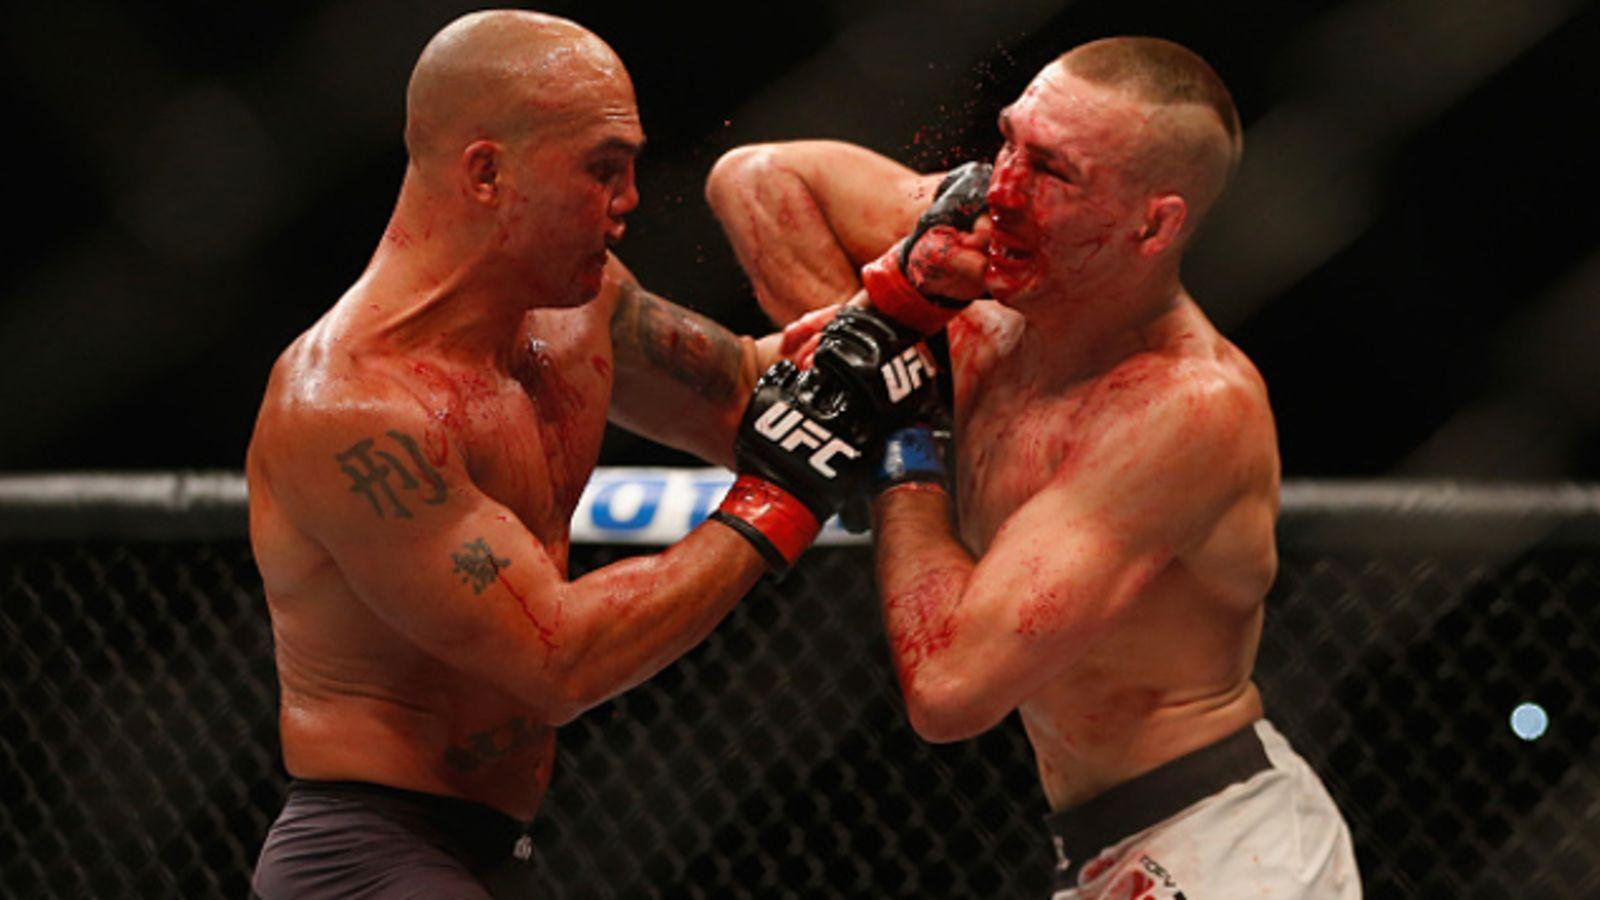Fire: (875, 98, 1191, 700), (393, 224, 774, 723), (708, 145, 851, 325)
